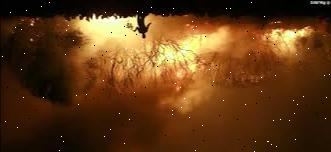fire: (75, 14, 319, 110)
